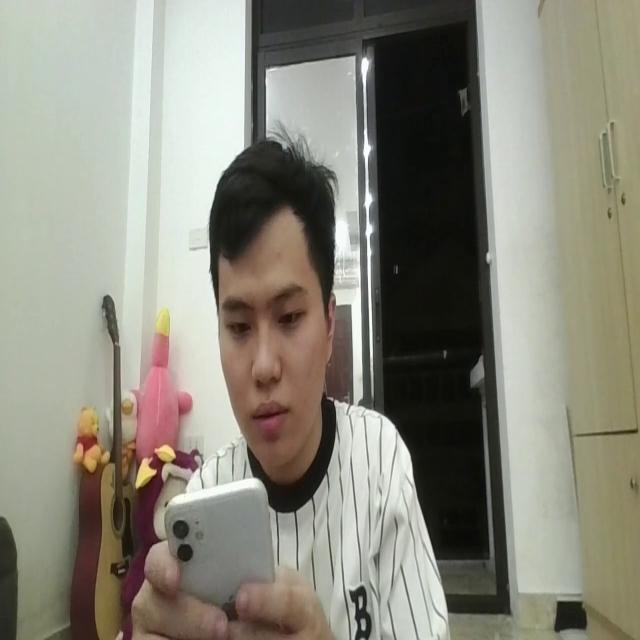phone: (168, 474, 274, 606)
student: (123, 139, 449, 640)
